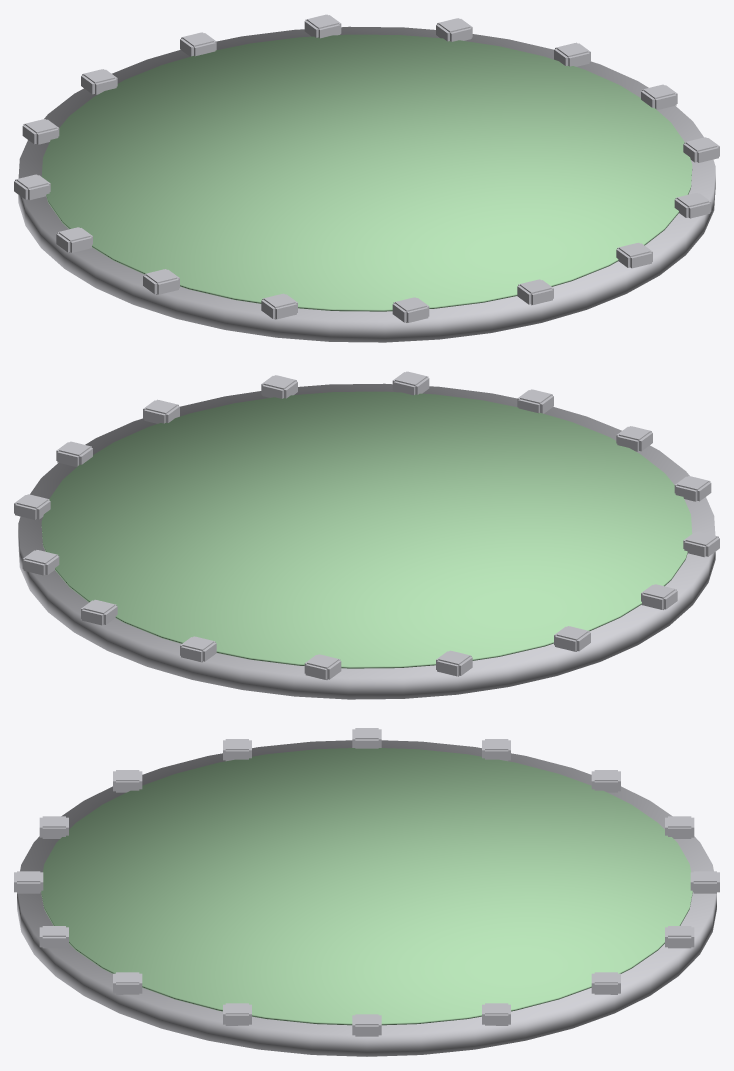
File: build_base_platform.glb
The picture shows the model from 3 angles, top to bottom: view 1: azimuth 30°, elevation 25°; view 2: azimuth 150°, elevation 25°; view 3: azimuth 270°, elevation 25°; orthographic projection.
Parts seen in each view (by area): view 1: cone; view 2: cone; view 3: cone.
Part boxes in pixels (bbox=[...]): cone: bbox=[14, 14, 719, 342]; cone: bbox=[14, 371, 719, 699]; cone: bbox=[14, 728, 719, 1056].
Bounding box in the file's own units: 12.1 × 0.62 × 12.1.
